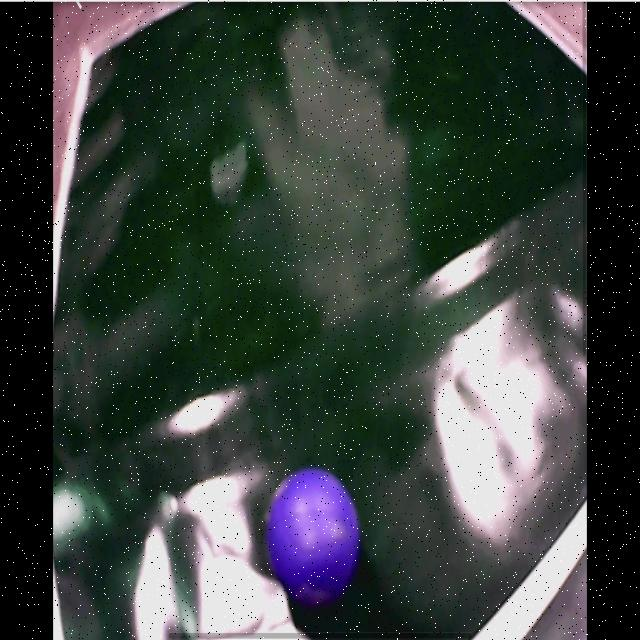ball: (270, 470, 360, 601)
